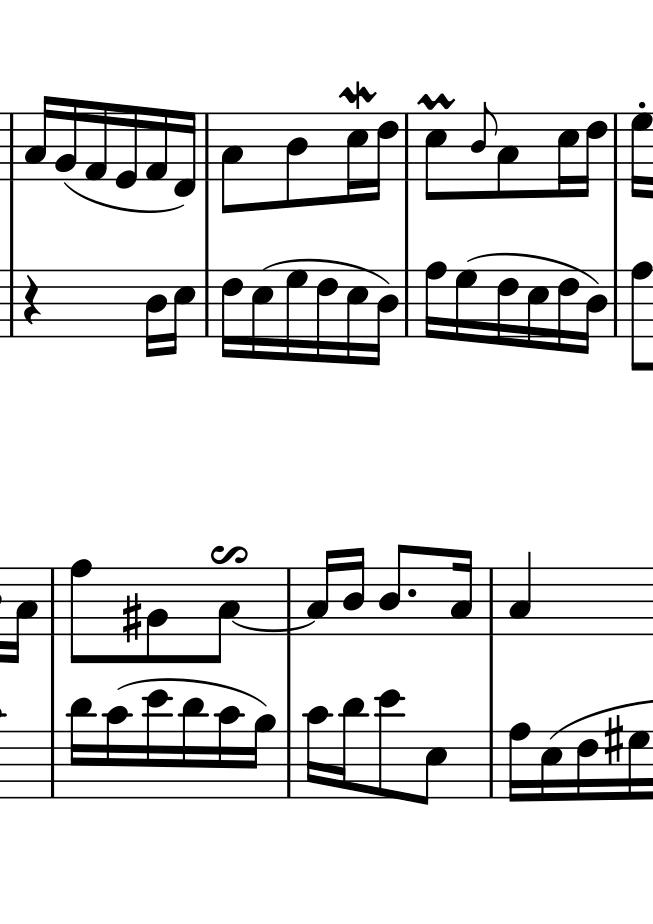16_-1: (172, 110, 197, 198)
16_0: (114, 103, 139, 189)
16_1: (85, 100, 108, 182), (144, 107, 169, 182)
16_10: (102, 705, 132, 797), (215, 704, 243, 798), (303, 703, 330, 800)
16_11: (333, 696, 365, 801), (178, 696, 205, 800), (68, 696, 92, 799)
16_12: (142, 688, 173, 800)
16_2: (54, 98, 78, 180)
16_3: (8, 566, 38, 664), (306, 549, 337, 634), (23, 94, 53, 181), (448, 549, 475, 636)
16_4: (370, 268, 401, 366), (580, 267, 608, 355), (143, 268, 167, 357), (342, 548, 366, 635)
16_5: (168, 268, 196, 356), (344, 268, 368, 366), (250, 269, 274, 361), (538, 727, 566, 802), (346, 111, 368, 203), (556, 110, 578, 197), (526, 268, 549, 349)
16_6: (578, 111, 609, 197), (369, 111, 398, 201), (315, 269, 338, 364), (220, 269, 244, 359), (555, 268, 579, 353), (494, 269, 520, 347), (576, 729, 601, 799)
16_7: (283, 269, 308, 362), (630, 111, 653, 200), (453, 270, 479, 344), (625, 729, 650, 800)
16_8: (421, 261, 448, 339), (507, 720, 532, 804)
16_9: (245, 713, 277, 799)
4_3: (509, 551, 533, 636)
8_12: (375, 689, 403, 801)
8_2: (145, 564, 173, 666)
8_3: (208, 566, 242, 663), (219, 112, 243, 215), (496, 111, 520, 200)
8_4: (378, 544, 411, 635), (285, 112, 308, 209)
8_5: (416, 725, 448, 805), (424, 111, 447, 202)
8_8: (68, 558, 95, 665), (628, 259, 653, 373)
Appoggiature: (470, 101, 497, 182)
Inverted_turn: (209, 544, 249, 564)
Mordent: (337, 79, 376, 109)
Rests4: (23, 271, 40, 328)
Sharp: (603, 712, 625, 766), (120, 592, 142, 646)
ShortTrill: (417, 90, 459, 110)
Single_barline: (609, 110, 624, 182), (199, 268, 214, 339), (200, 112, 215, 182), (610, 269, 625, 339), (400, 269, 415, 339), (46, 729, 61, 799), (485, 729, 500, 798), (485, 566, 499, 637), (401, 112, 415, 182), (283, 729, 297, 798), (283, 565, 296, 637), (47, 566, 58, 637)
Slur: (466, 251, 601, 285), (116, 677, 270, 706), (62, 182, 185, 213), (262, 257, 392, 283), (231, 620, 316, 633)
dot: (405, 587, 420, 598)
